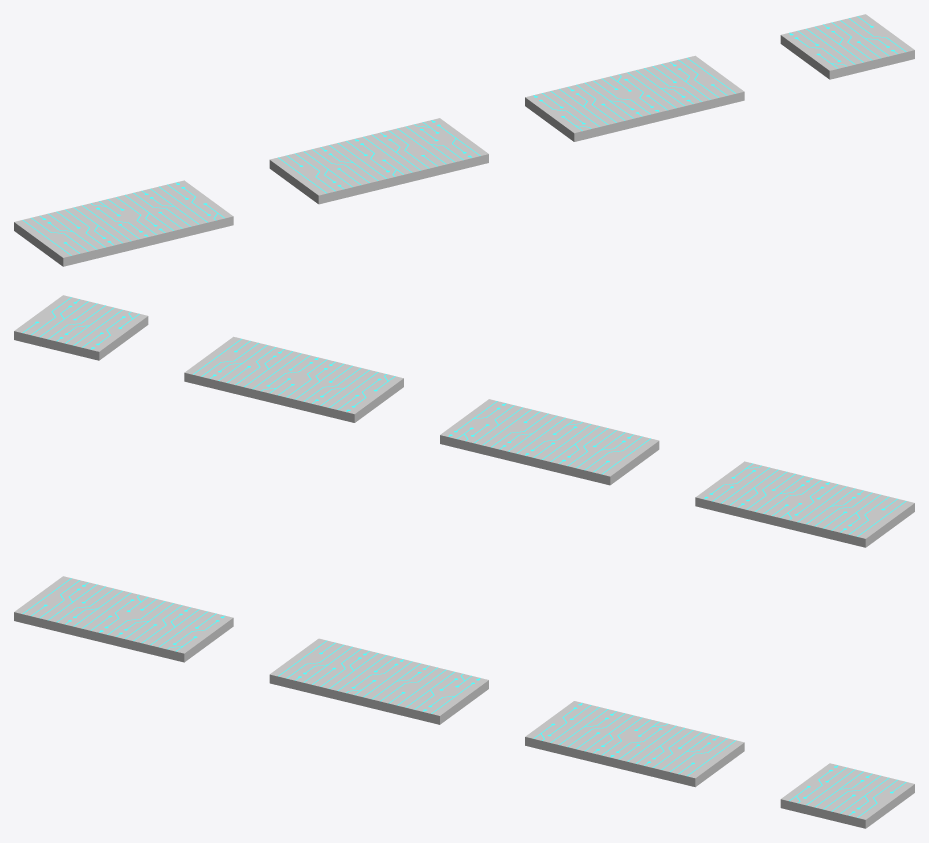
The model's file is floor_metallic8.glb.
3 renders of one model, top to bottom at view 1: azimuth 30°, elevation 25°; view 2: azimuth 150°, elevation 25°; view 3: azimuth 330°, elevation 25°, orthographic.
Visible parts, largest first — view 1: Cube.015, Plane.041; view 2: Cube.015, Plane.041; view 3: Cube.015, Plane.041.
Boxes of the visible parts, box(x1,y1,x2,y2) form: Cube.015: box(14, 14, 914, 266); Plane.041: box(22, 16, 906, 255); Cube.015: box(14, 295, 914, 547); Plane.041: box(22, 297, 906, 536); Cube.015: box(14, 576, 914, 828); Plane.041: box(22, 578, 906, 817).
Size of the model in its own units: 200 by 2.01 by 20.
